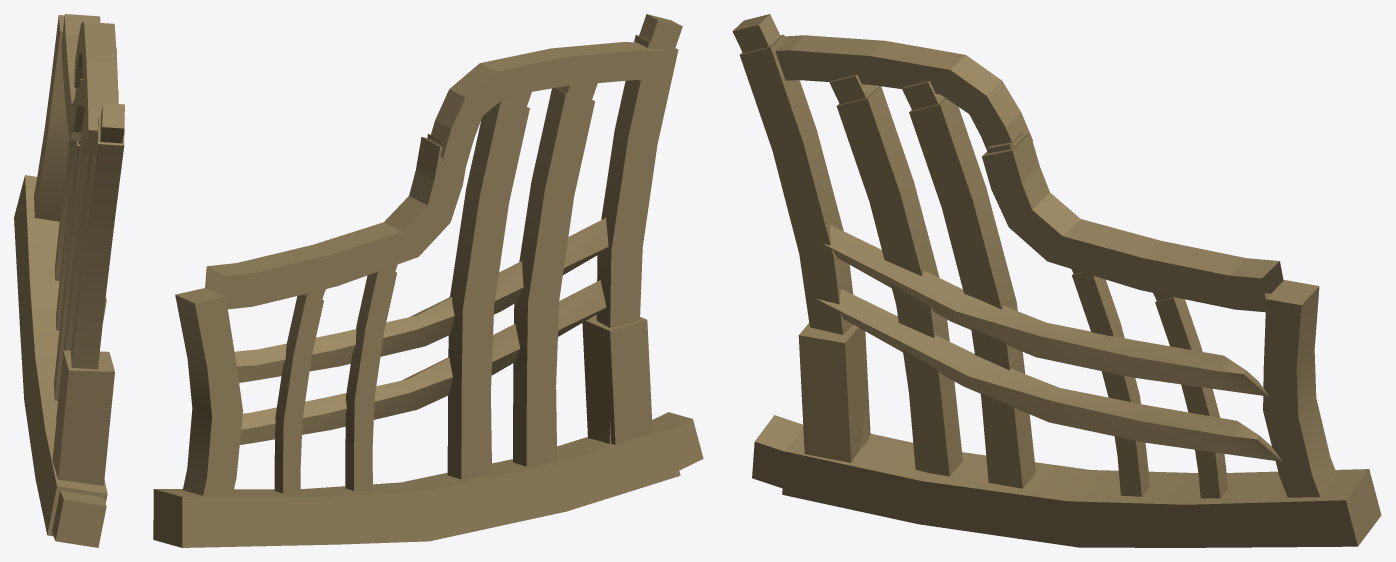
The model's file is Gate L.fbx.
3 renders of one model, left to right at view 1: azimuth 30°, elevation 25°; view 2: azimuth 150°, elevation 25°; view 3: azimuth 270°, elevation 25°, orthographic. The views are drawn at different scales.
Visible parts, largest first — view 1: polySurface2; view 2: polySurface2; view 3: polySurface2.
Part boxes in pixels (x1,y1,x2,y2): polySurface2: [14, 14, 124, 547]; polySurface2: [153, 14, 703, 547]; polySurface2: [732, 14, 1381, 547].
Size of the model in its own units: 2.07e-05 by 3.1e-05 by 3.77e-05.
